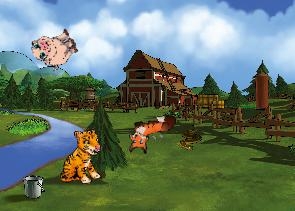fox: (123, 112, 180, 156)
pig: (27, 21, 82, 75)
tiger: (54, 128, 106, 187)
